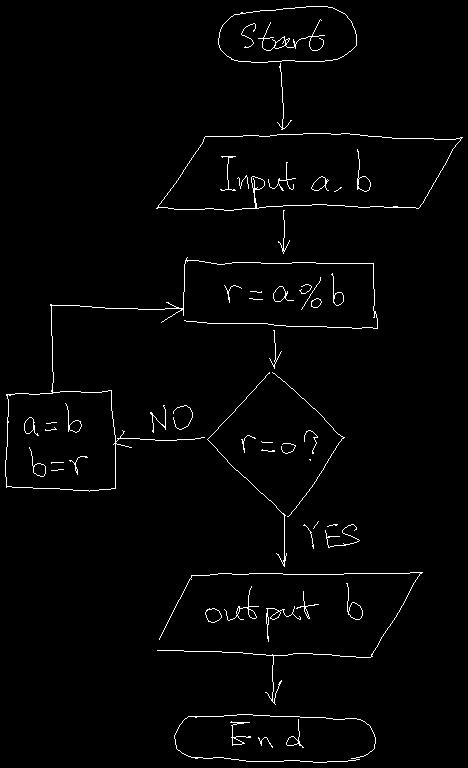arrow: (50, 302, 182, 393), (113, 430, 204, 447), (277, 63, 291, 129), (265, 654, 281, 704), (276, 515, 286, 566), (278, 210, 289, 253), (269, 330, 281, 368)
data: (156, 133, 462, 210), (157, 572, 422, 657)
decision: (207, 372, 344, 516)
process: (183, 257, 377, 328), (5, 390, 115, 491)
terminator: (174, 714, 375, 762), (218, 6, 356, 62)
text: (205, 583, 362, 641), (220, 149, 370, 207), (24, 403, 87, 476), (224, 273, 343, 309), (241, 19, 324, 50), (241, 430, 317, 460), (230, 719, 303, 747), (303, 521, 359, 548), (150, 405, 192, 432)
